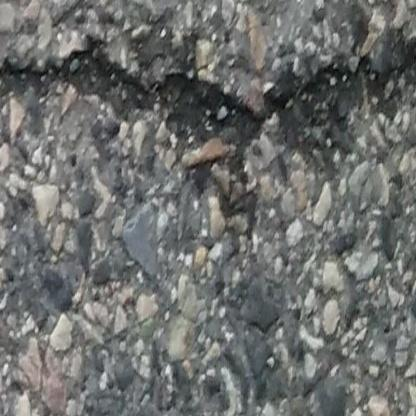Cracks: (0, 19, 416, 174)
